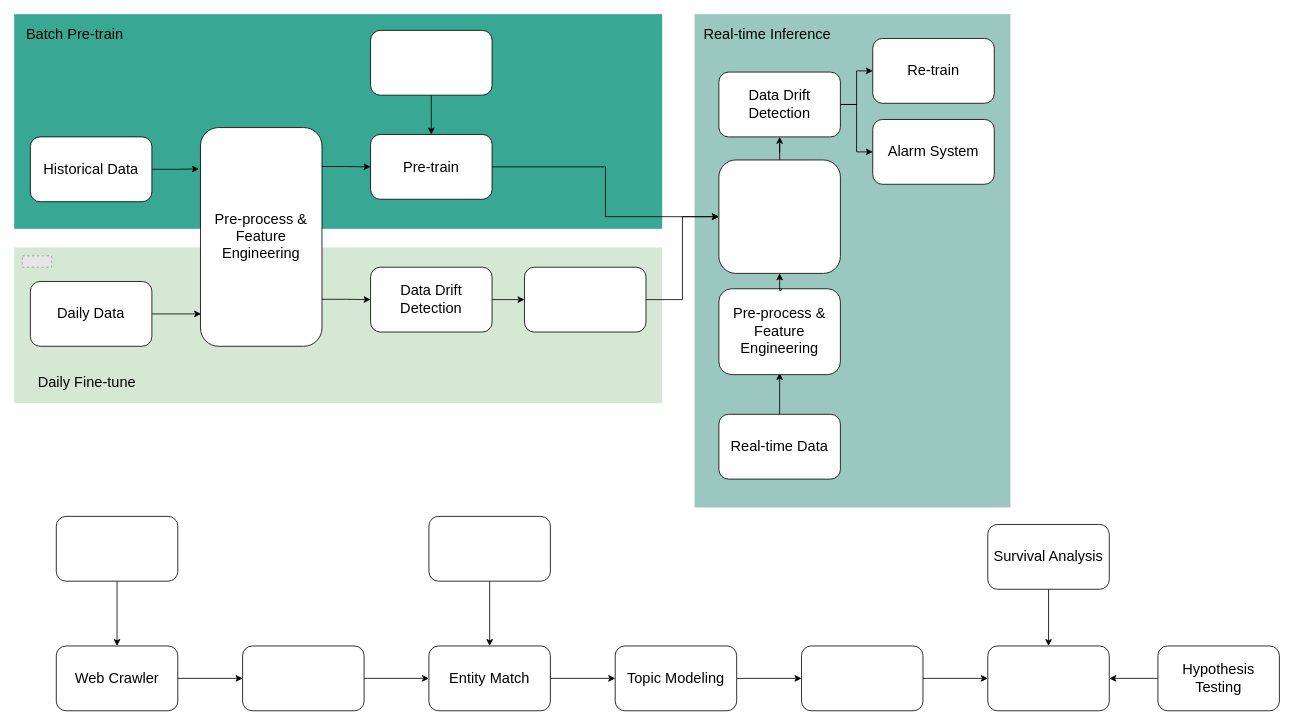
The diagram is 1294 pixels wide and 725 high, and some of its shapes have lost their labels. Grey dashed boxes stand in for pictures. Each missing label, with the centre of its shape:
"Financial News" belongs at point 116,548.
"Fine-tune" belongs at point 585,299.
"Inference Model" belongs at point 779,216.
"LSTM" belongs at point 431,62.
"NER" belongs at point 303,678.
"Price movement Analysis" belongs at point 1048,678.
"RAG & GenAI" belongs at point 489,548.
"Sentiment Analysis" belongs at point 862,678.
